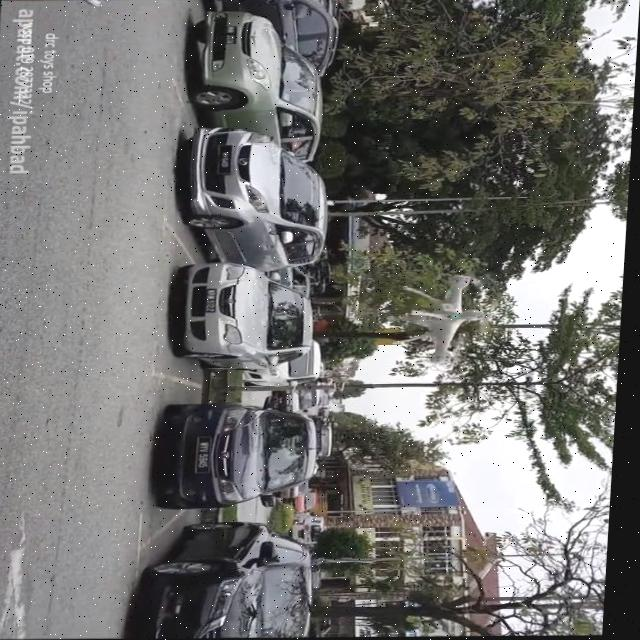drone: (393, 274, 497, 365)
